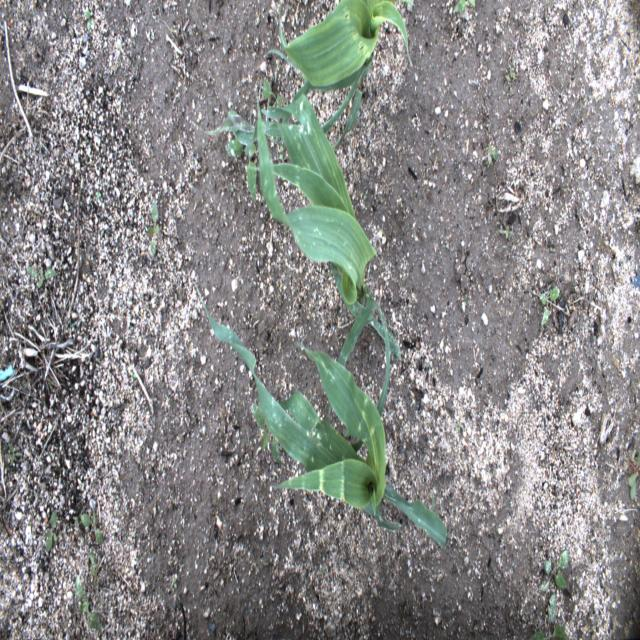crop: (197, 288, 447, 550), (204, 98, 402, 417), (266, 0, 415, 152)
weed: (225, 140, 257, 202), (528, 592, 569, 639), (252, 401, 282, 465), (73, 582, 104, 633), (538, 549, 570, 594), (73, 512, 104, 546), (146, 200, 161, 260), (539, 285, 559, 327), (624, 449, 639, 502), (26, 264, 56, 290), (262, 77, 282, 109), (45, 509, 59, 554), (4, 440, 24, 469), (452, 0, 476, 17), (496, 224, 516, 242), (486, 141, 499, 167), (84, 5, 95, 32), (88, 549, 98, 578), (172, 576, 178, 592), (95, 190, 103, 202), (64, 321, 74, 330), (508, 66, 514, 80), (278, 2, 283, 18), (633, 562, 639, 575), (363, 187, 368, 202), (130, 369, 137, 379), (80, 177, 85, 191), (457, 420, 462, 433), (47, 382, 54, 391), (168, 25, 175, 34)
